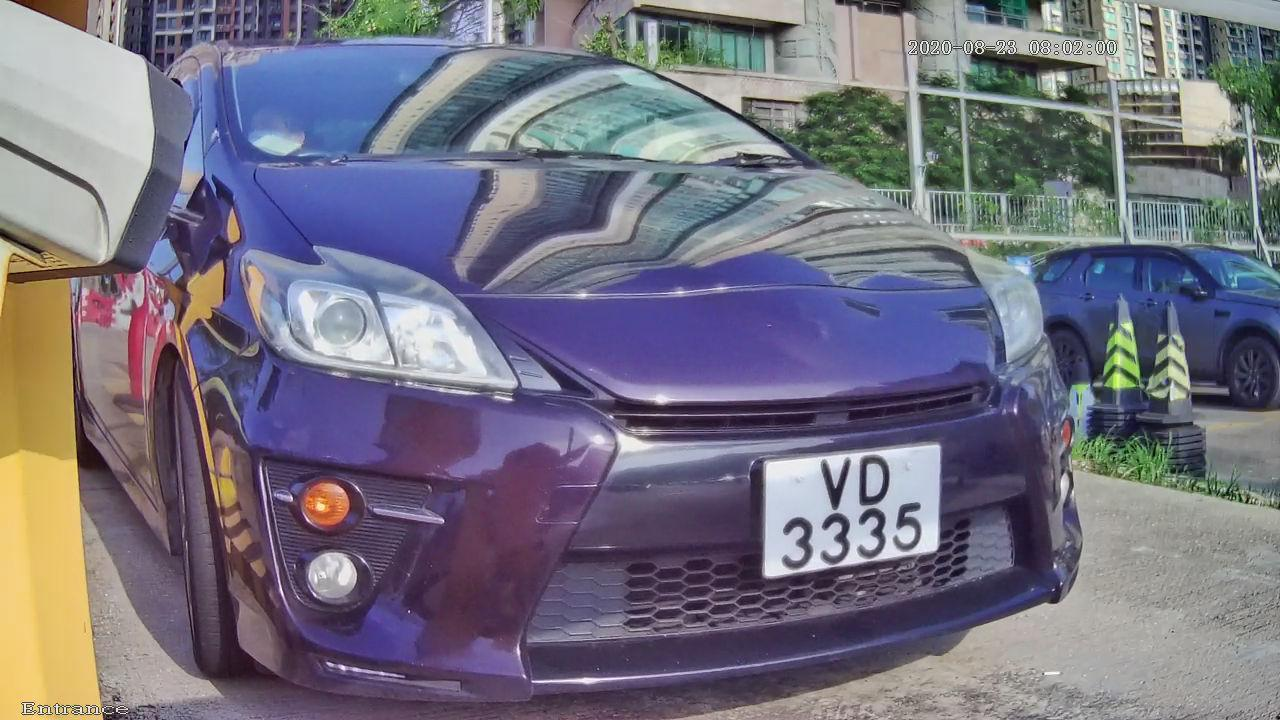Car: (46, 1, 1172, 720)
License Plate: (743, 434, 955, 595)
